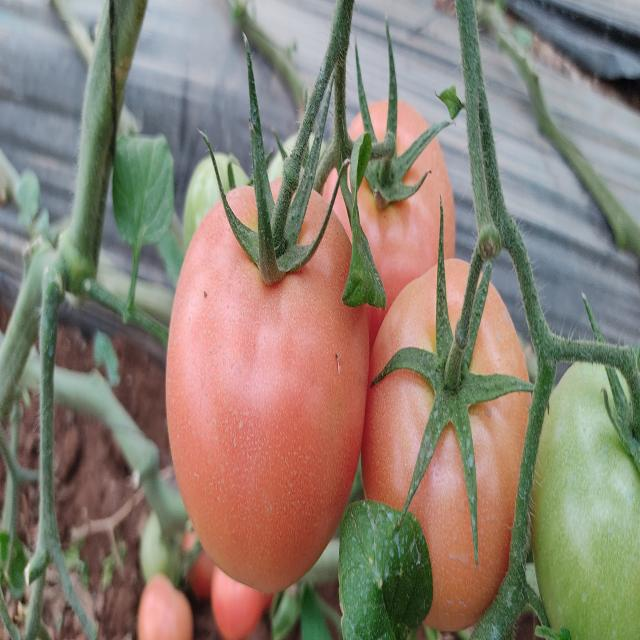Ripe Tomato: (170, 187, 372, 590), (366, 254, 532, 622), (316, 94, 454, 313)
Unripe Tomato: (536, 346, 640, 640)
